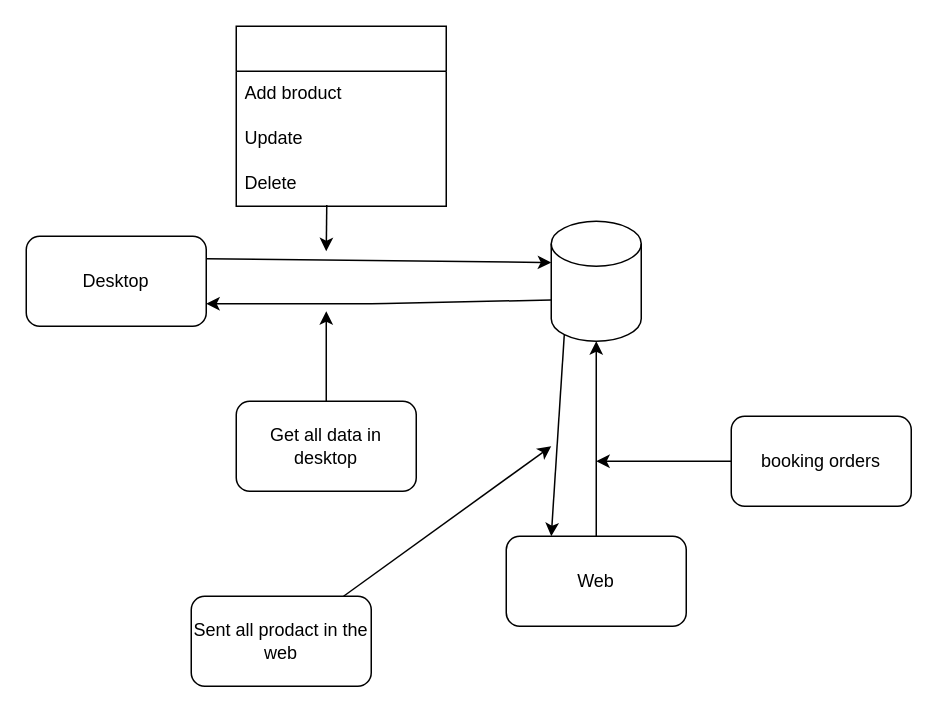
This 938x713 diagram has some shape labels left out. Here are the shapes that lost their labels. From the top down, the box of each, then its label:
(235, 25, 446, 206): List
(550, 220, 641, 341): Shop.db
